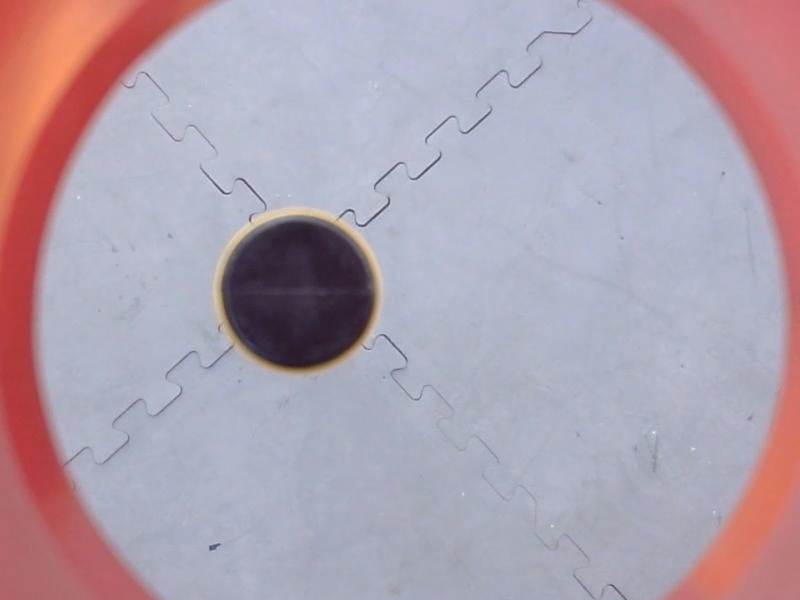tip: (205, 201, 393, 386)
